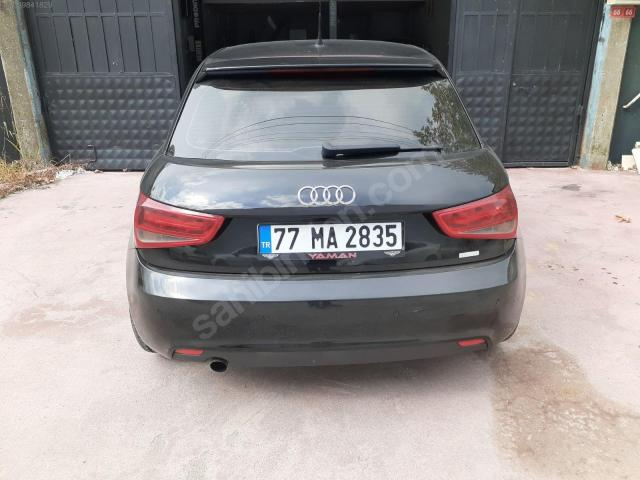plaka: (258, 221, 404, 254)
